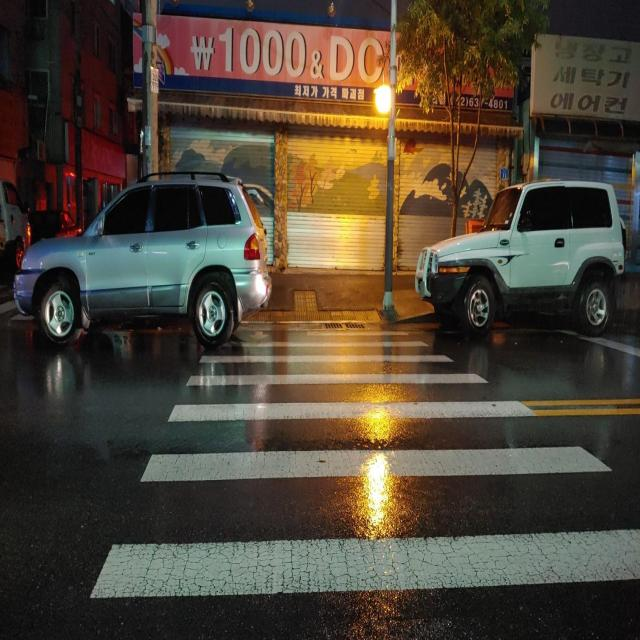횡단보도: (86, 323, 639, 608)
